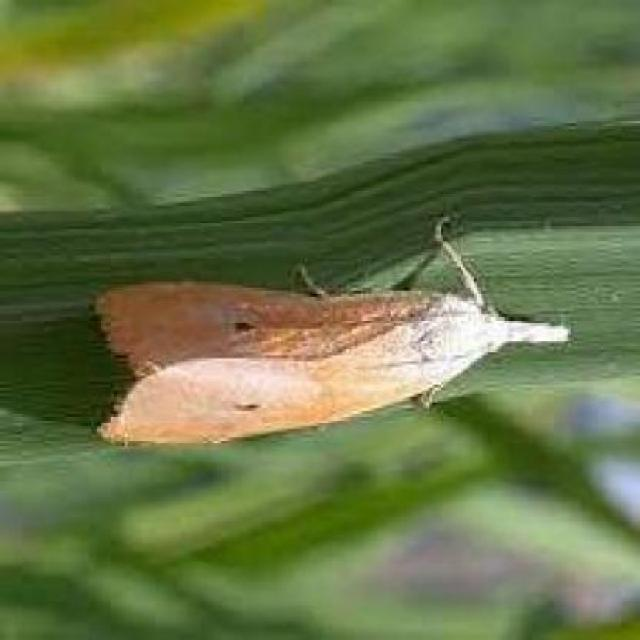stem-borer: (90, 210, 575, 448)
